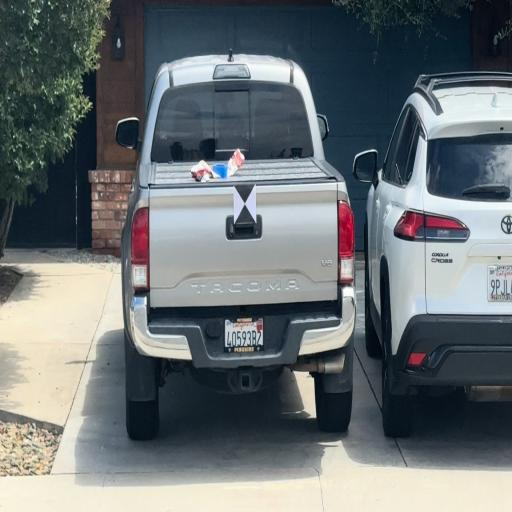target: (234, 184, 256, 224)
